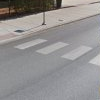crosswalk: (14, 38, 100, 65)
